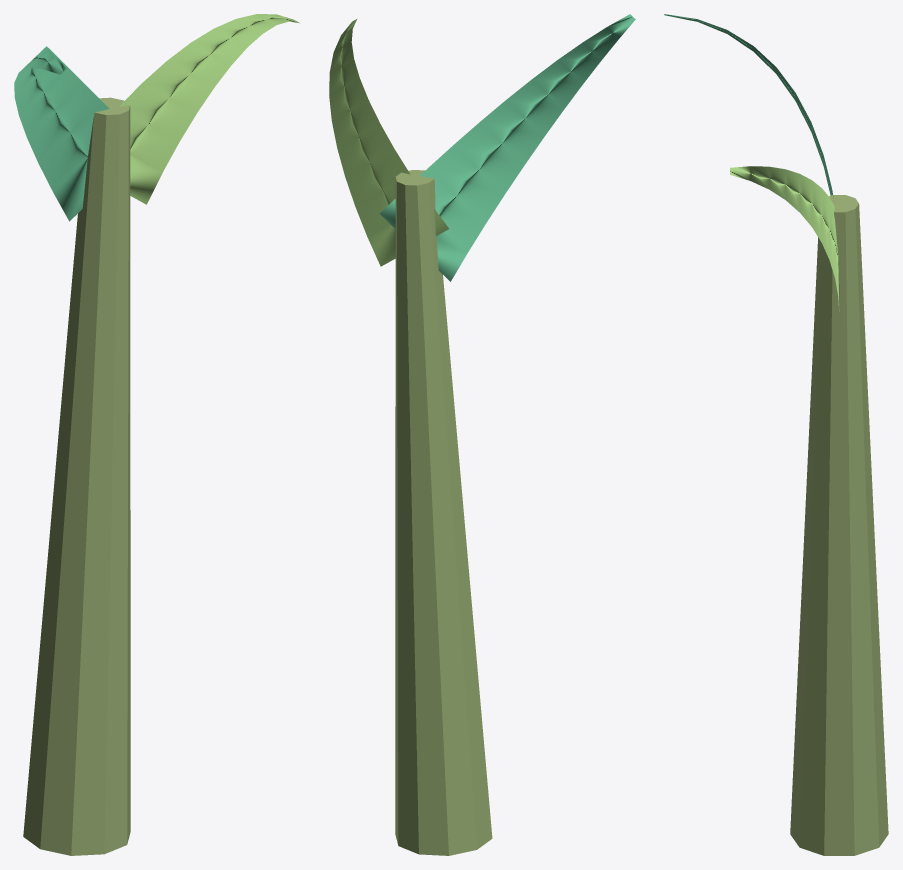
The model's file is rooted_mangrove_propagule_tropical_island_and_palm_trees_6812.glb.
3 renders of one model, left to right at view 1: azimuth 30°, elevation 25°; view 2: azimuth 150°, elevation 25°; view 3: azimuth 270°, elevation 25°, orthographic. The views are drawn at different scales.
Parts seen in each view (by area): view 1: mangrove-propagule; view 2: mangrove-propagule; view 3: mangrove-propagule.
Boxes of the visible parts, x1,y1,x2,y2 form: mangrove-propagule: [14, 14, 299, 855]; mangrove-propagule: [329, 14, 635, 855]; mangrove-propagule: [664, 14, 888, 855].
Bounding box in the file's own units: 0.2625 × 0.7815 × 0.205.
